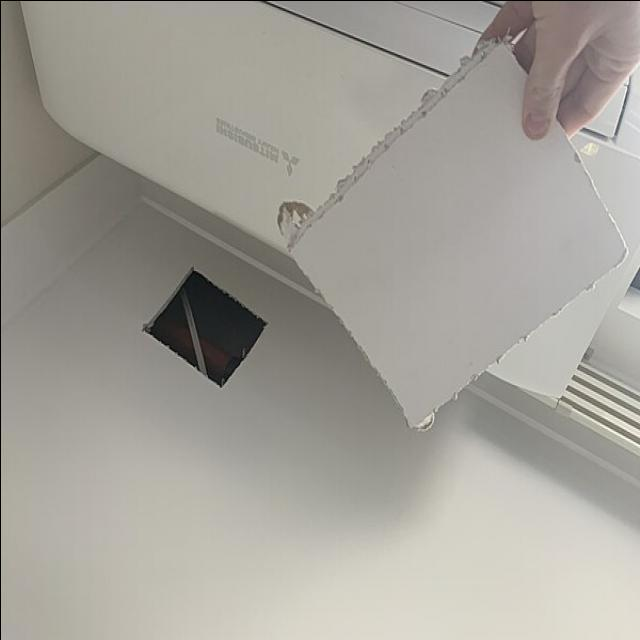Crack: (145, 268, 268, 389)
